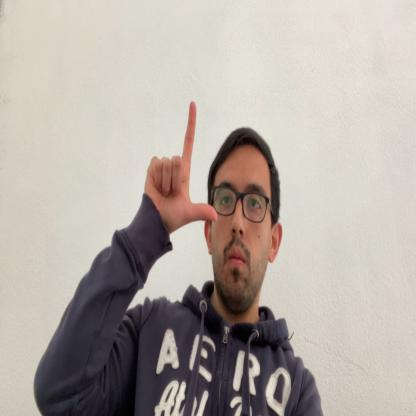L: (145, 101, 218, 238)
